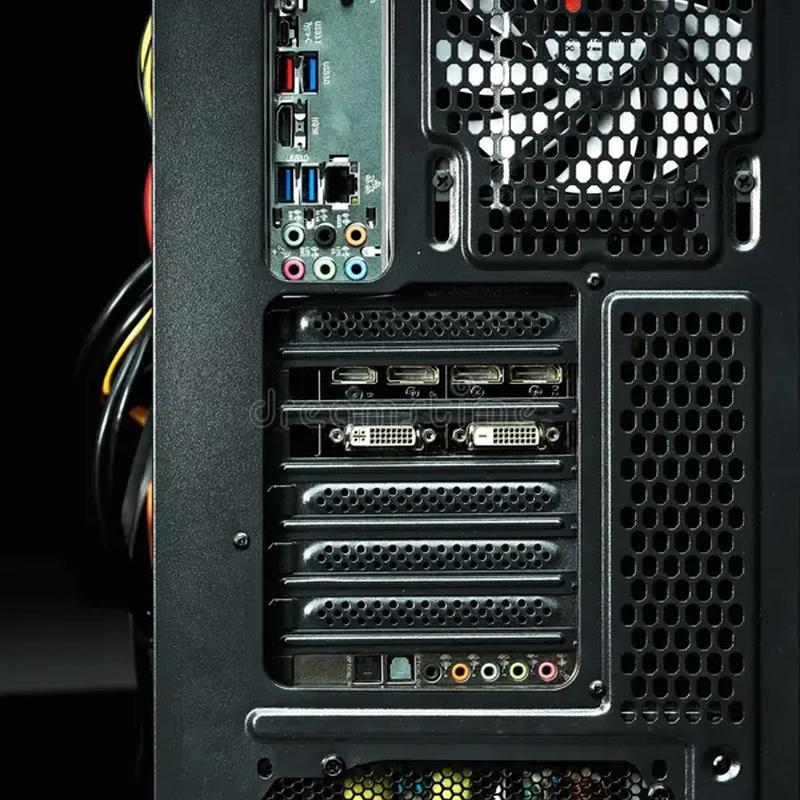AUDIO: (342, 249, 377, 284)
AUDIO_INPUT: (312, 252, 345, 285), (504, 651, 532, 686)
AUDIO_OUTPUT: (274, 248, 308, 282), (535, 651, 566, 684)
DISPLAYPORT: (502, 356, 562, 388), (445, 358, 502, 389), (382, 360, 441, 387)
DVI: (319, 408, 445, 460), (442, 415, 576, 456)
ETHERNET: (323, 156, 365, 209)
HDMI: (266, 100, 310, 149), (312, 360, 379, 392)
USB: (265, 47, 301, 96), (266, 156, 293, 205), (297, 159, 323, 206), (301, 42, 322, 98)
